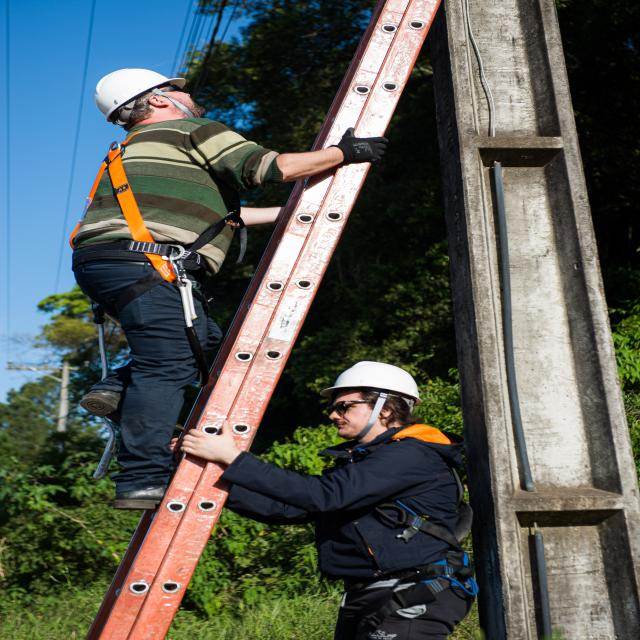capacete: (91, 68, 187, 121), (319, 358, 425, 406)
luva: (328, 126, 392, 166)
